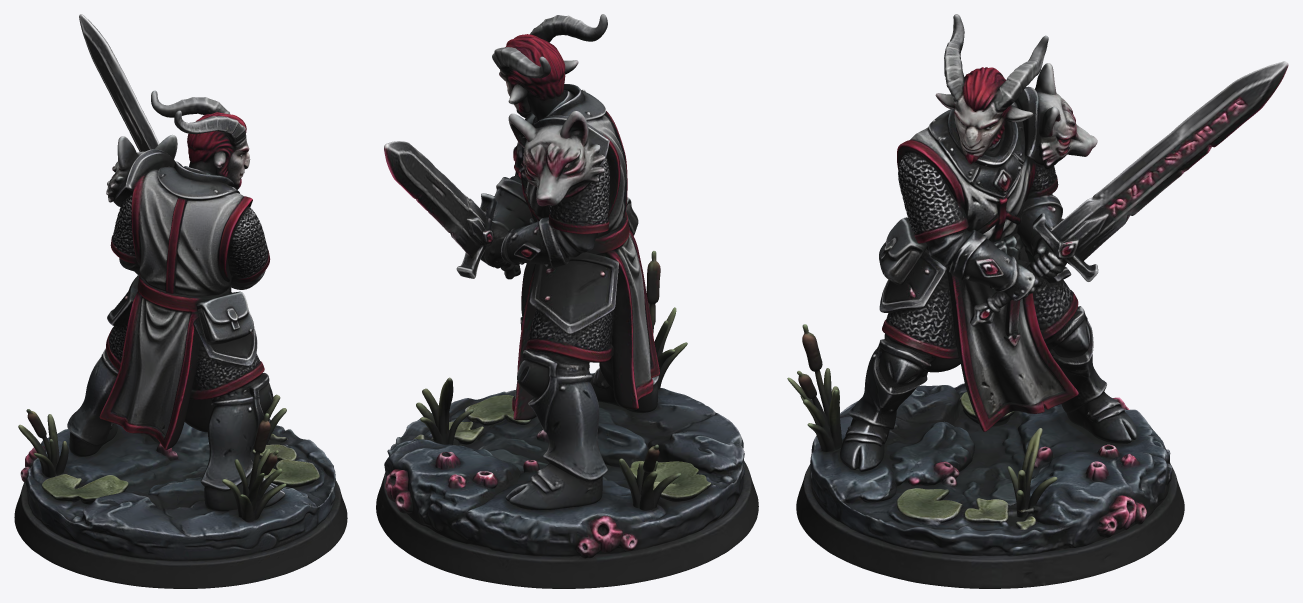
The model's file is inspiration-367.glb.
3 renders of one model, left to right at view 1: azimuth 30°, elevation 25°; view 2: azimuth 150°, elevation 25°; view 3: azimuth 270°, elevation 25°, orthographic. The views are drawn at different scales.
Visible parts, largest first — view 1: tripo_node_b12fbe5c-5f0c-4b46-9a5c-eb62e5ff14a6; view 2: tripo_node_b12fbe5c-5f0c-4b46-9a5c-eb62e5ff14a6; view 3: tripo_node_b12fbe5c-5f0c-4b46-9a5c-eb62e5ff14a6.
Boxes of the visible parts, bbox=[...] form: tripo_node_b12fbe5c-5f0c-4b46-9a5c-eb62e5ff14a6: bbox=[14, 14, 347, 588]; tripo_node_b12fbe5c-5f0c-4b46-9a5c-eb62e5ff14a6: bbox=[376, 14, 758, 588]; tripo_node_b12fbe5c-5f0c-4b46-9a5c-eb62e5ff14a6: bbox=[787, 14, 1288, 588].
Bounding box in the file's own units: 0.7138 × 1 × 0.9347.
1 material, 1 textured.
